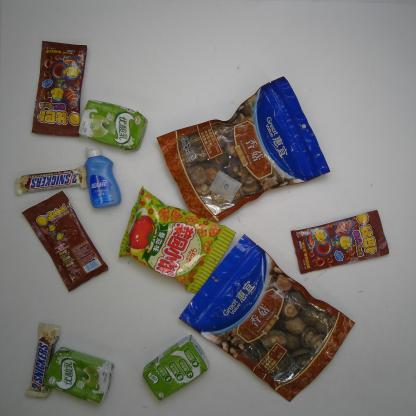Candy: (18, 187, 110, 294), (286, 207, 392, 276), (27, 38, 91, 140)
Chocolate: (22, 319, 62, 401), (12, 162, 95, 198)
Dried Food: (175, 230, 358, 404), (153, 73, 333, 225)
Milk: (138, 331, 214, 403), (41, 343, 117, 406), (75, 96, 150, 154)
Personal Hygiene: (80, 142, 125, 213)
Puffed Food: (115, 182, 238, 296)
